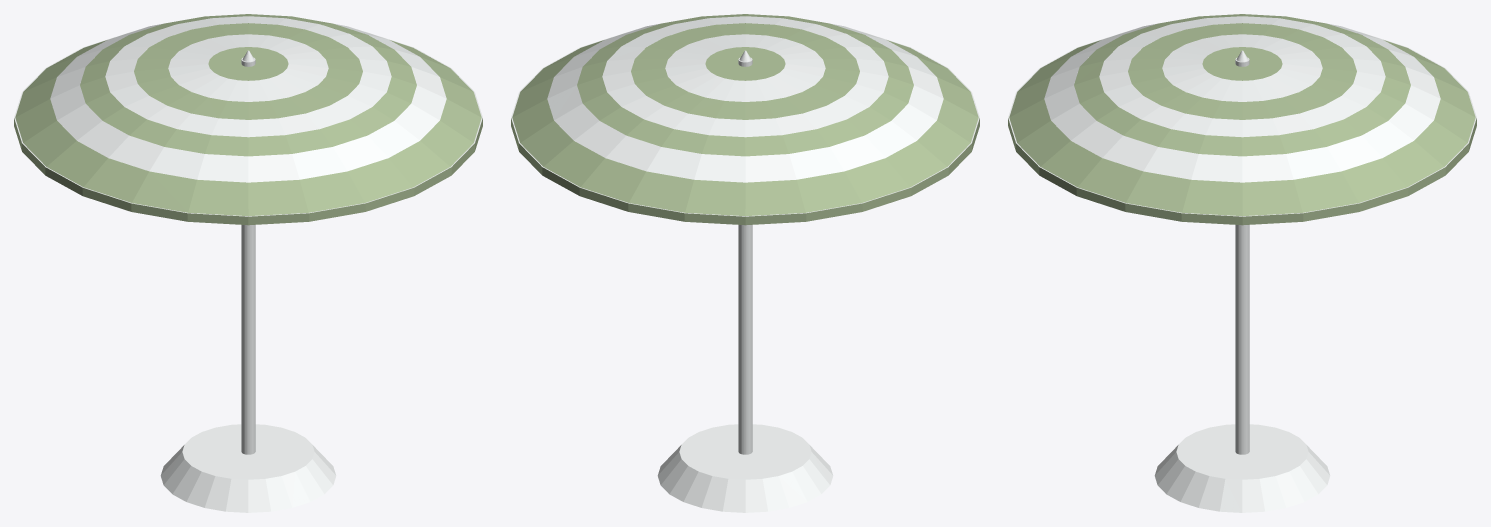
File: sh-contrib-parasol-str.glb
3 views of the same model, side by side, from view 1: azimuth 30°, elevation 25°; view 2: azimuth 150°, elevation 25°; view 3: azimuth 270°, elevation 25° (orthographic).
Parts seen in each view (by area): view 1: 6_6, 8_8; view 2: 6_6, 8_8; view 3: 6_6, 8_8.
Part boxes in pixels (x1,y1,x2,y2): 6_6: (14, 16, 482, 512); 8_8: (14, 14, 482, 225); 6_6: (511, 16, 979, 512); 8_8: (511, 14, 979, 225); 6_6: (1008, 16, 1476, 512); 8_8: (1008, 14, 1476, 225).
Size of the model in its own units: 1 by 1 by 1.
